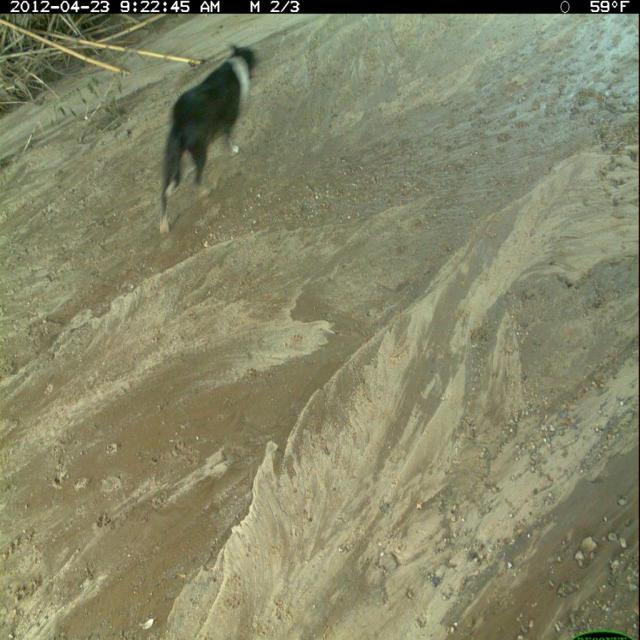dog: (157, 41, 266, 240)
